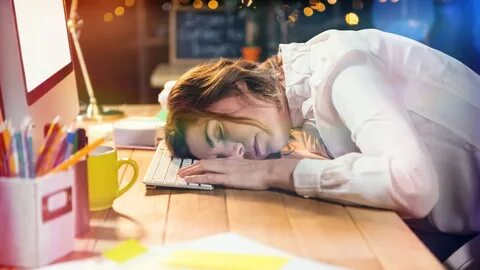sleep: (165, 29, 479, 213)
